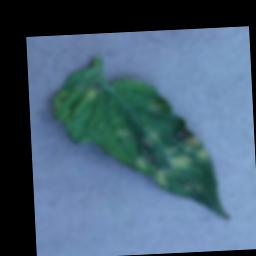Leaf_Mold: (130, 126, 210, 189)
